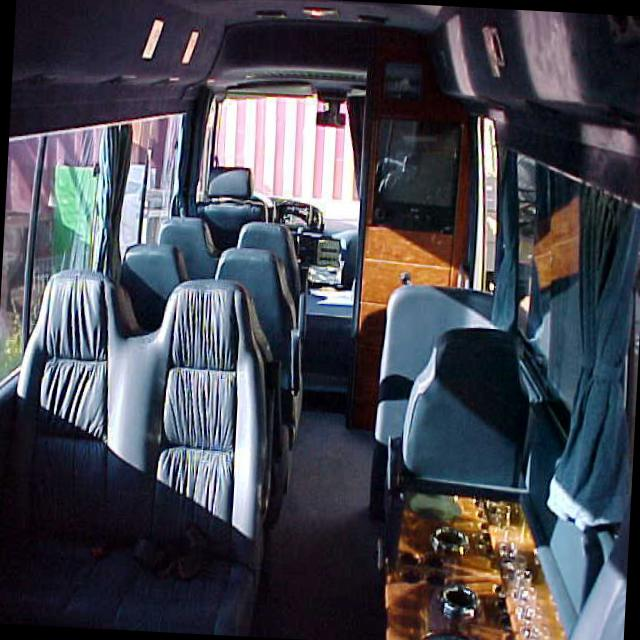2001: (501, 147, 640, 531), (0, 110, 190, 383)
2013: (216, 96, 366, 223)
curtain crop: (546, 182, 640, 525), (93, 118, 135, 279)
door opening: (469, 113, 499, 289)
lamp crop: (144, 16, 166, 59), (183, 28, 200, 61)
seats crop: (117, 215, 310, 518), (368, 284, 529, 563)
seats occluded: (0, 268, 269, 628)
